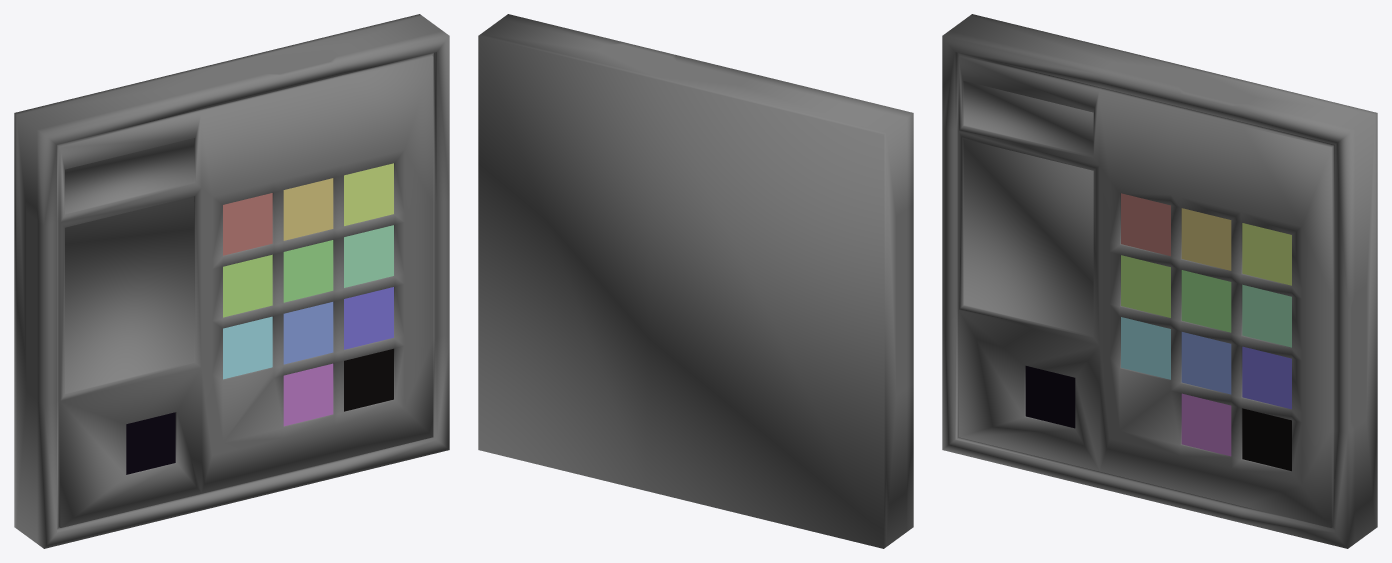
Rendered from Protocol.fbx.
3 views of the same model, side by side, from view 1: azimuth 30°, elevation 25°; view 2: azimuth 150°, elevation 25°; view 3: azimuth 330°, elevation 25° (orthographic).
Parts seen in each view (by area): view 1: protocol_low, 2, 5, 8, 0, 3, 7, delete, 1, 4, 6, 9 (+1 smaller); view 2: protocol_low; view 3: protocol_low, 5, 2, 8, 0, bell, 1, 6, 9, delete, 3, 7 (+1 smaller).
Part boxes in pixels (x1,y1,x2,y2): protocol_low: (14, 14, 449, 548); 2: (283, 178, 333, 240); 5: (283, 240, 333, 302); 8: (283, 302, 333, 364); 0: (283, 363, 333, 426); 3: (344, 163, 393, 225); 7: (223, 316, 272, 379); delete: (344, 348, 393, 411); 1: (223, 193, 272, 255); 4: (223, 254, 272, 317); 6: (344, 225, 393, 287); 9: (344, 287, 393, 349); protocol_low: (478, 14, 913, 548); protocol_low: (942, 14, 1377, 548); 5: (1181, 270, 1231, 332); 2: (1181, 208, 1231, 270); 8: (1181, 332, 1231, 394); 0: (1181, 393, 1231, 456); bell: (1025, 366, 1075, 428); 1: (1121, 193, 1170, 256); 6: (1242, 284, 1291, 347); 9: (1242, 346, 1291, 409); delete: (1242, 408, 1291, 471); 3: (1242, 223, 1291, 285); 7: (1121, 317, 1170, 379).
Bounding box in the file's own units: 26.01 × 25.37 × 3.39.
